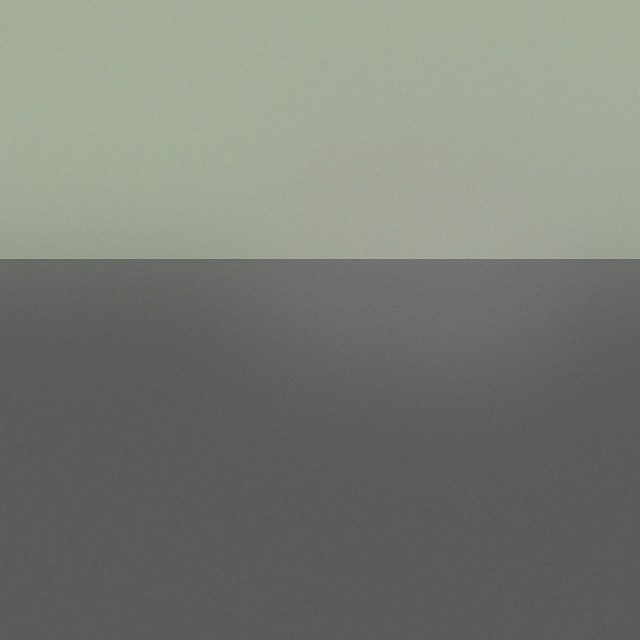smoke: (299, 71, 533, 305)
